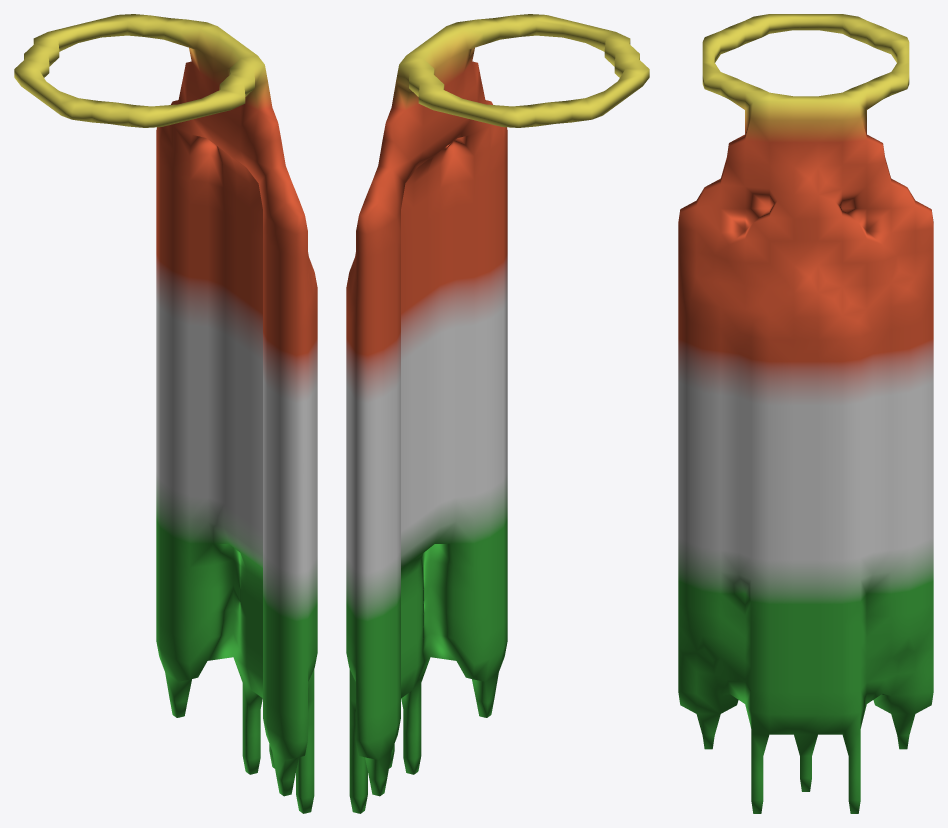
3 views of the same model, side by side, from view 1: azimuth 30°, elevation 25°; view 2: azimuth 150°, elevation 25°; view 3: azimuth 270°, elevation 25° (orthographic). The views are drawn at different scales.
Bounding box in the file's own units: 0.5375 × 1.57 × 0.525.
